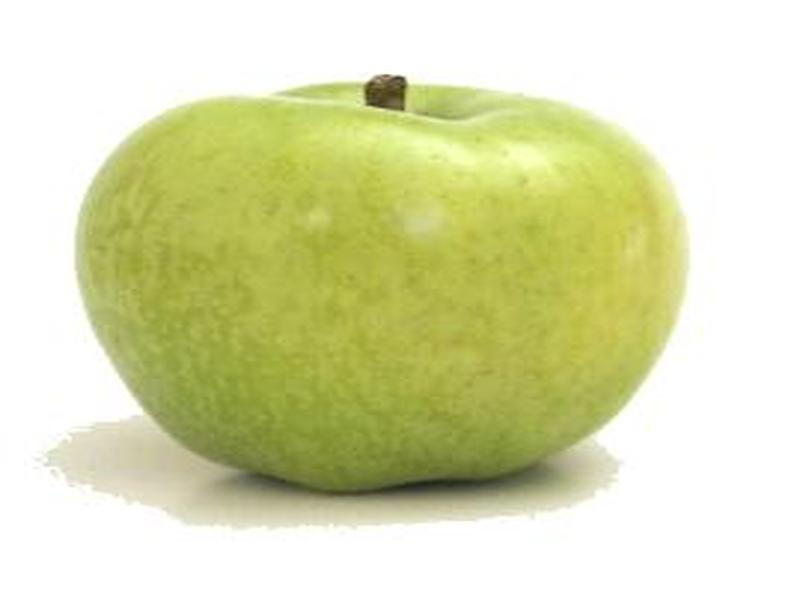apple: (59, 57, 724, 510)
